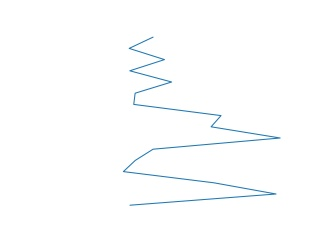majorRiverBedLagDeposit: (119, 37, 284, 210)
